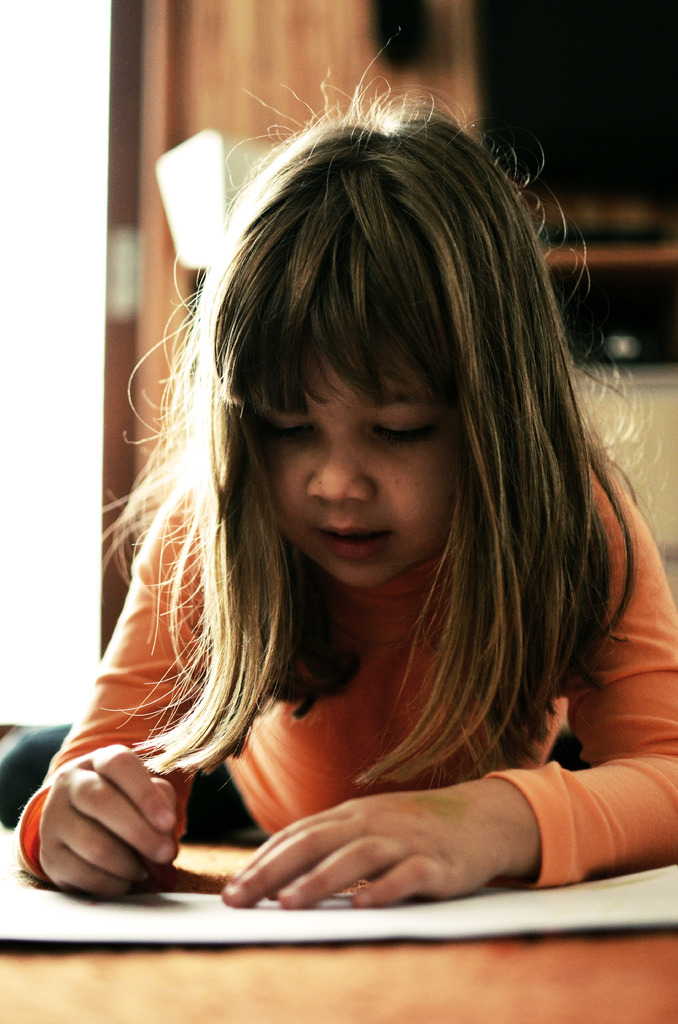Human_hand: (218, 781, 518, 912), (37, 743, 176, 902)
